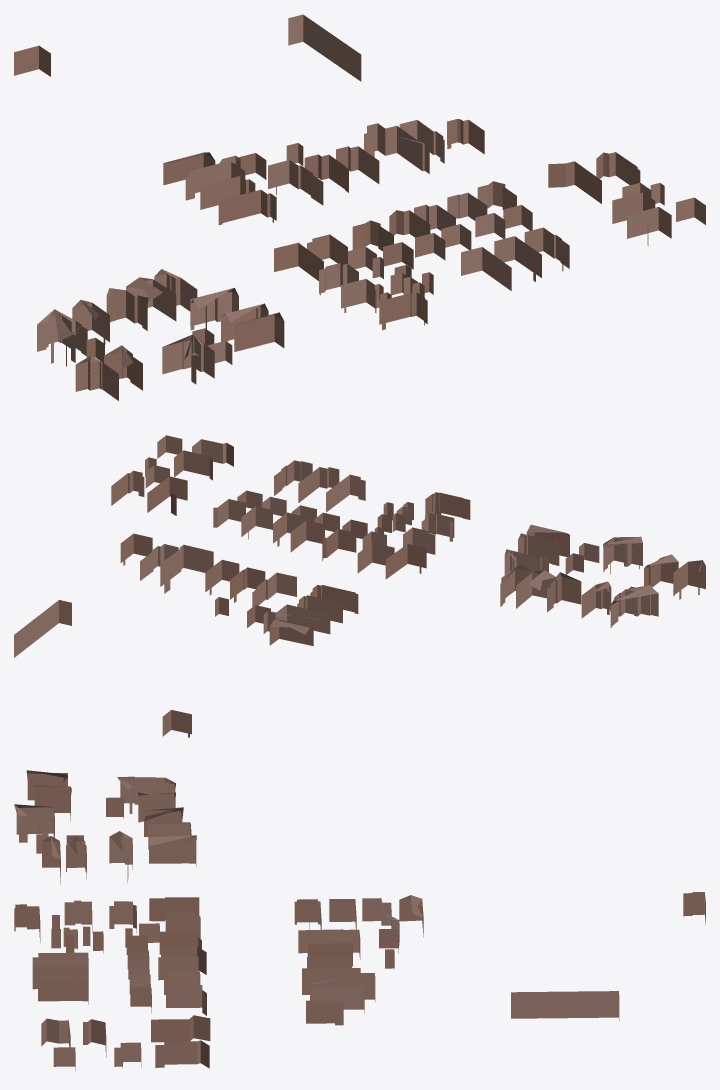
Rendered from c_1636_17829_buildings_residential.glb.
3 renders of one model, top to bottom at view 1: azimuth 30°, elevation 25°; view 2: azimuth 150°, elevation 25°; view 3: azimuth 270°, elevation 25°, orthographic. The views are drawn at different scales.
Visible parts, largest first — view 1: geometry_0; view 2: geometry_0; view 3: geometry_0.
Part boxes in pixels (box(x1,y1,x2,y2)): geometry_0: box(14, 14, 705, 400); geometry_0: box(14, 435, 705, 737); geometry_0: box(14, 770, 705, 1070).
Bounding box in the file's own units: 262 × 18.17 × 260.
